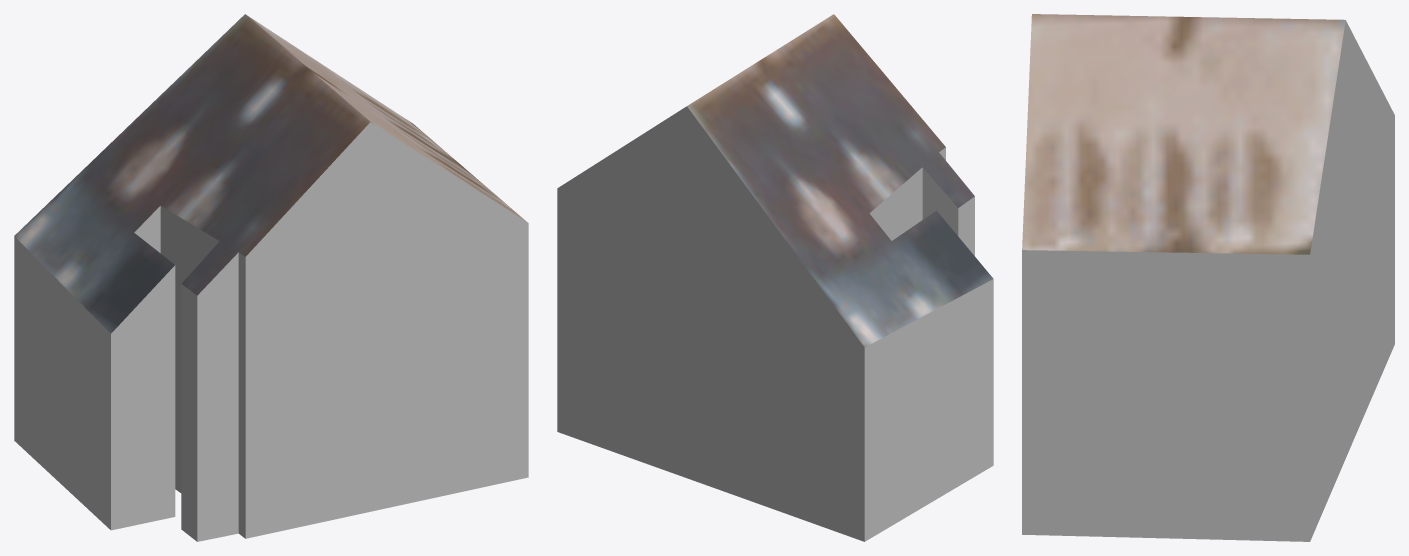
Rendered from DEBW_0010007Tx65.gltf.
3 renders of one model, left to right at view 1: azimuth 30°, elevation 25°; view 2: azimuth 150°, elevation 25°; view 3: azimuth 270°, elevation 25°, orthographic. The views are drawn at different scales.
Visible parts, largest first — view 1: Z_UP; view 2: Z_UP; view 3: Z_UP.
Boxes of the visible parts, x1,y1,x2,y2 form: Z_UP: (14,14,528,541); Z_UP: (557,14,993,541); Z_UP: (1022,14,1394,541).
Bounding box in the file's own units: 13.65 × 13.42 × 10.33.
Materials: 2 (1 with a texture image).
